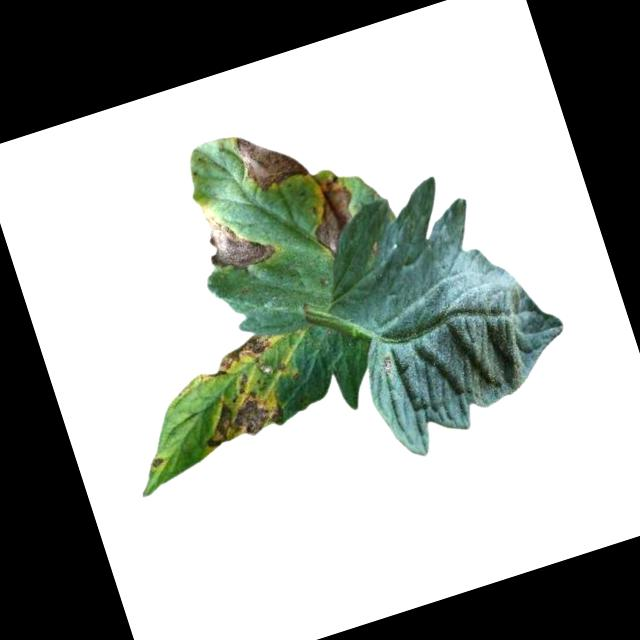Early_blight: (187, 365, 289, 457), (191, 194, 277, 282), (297, 170, 369, 264), (229, 119, 310, 198), (205, 331, 277, 380), (375, 351, 400, 381), (147, 455, 167, 473)
